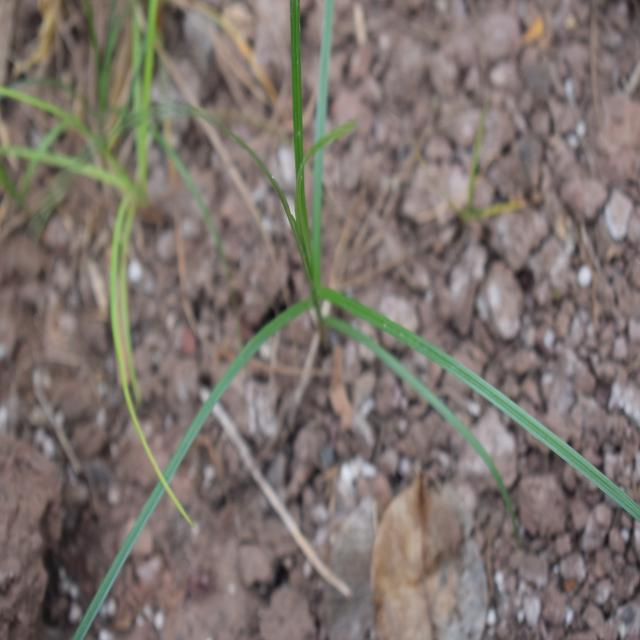sedge: (106, 4, 570, 544)
